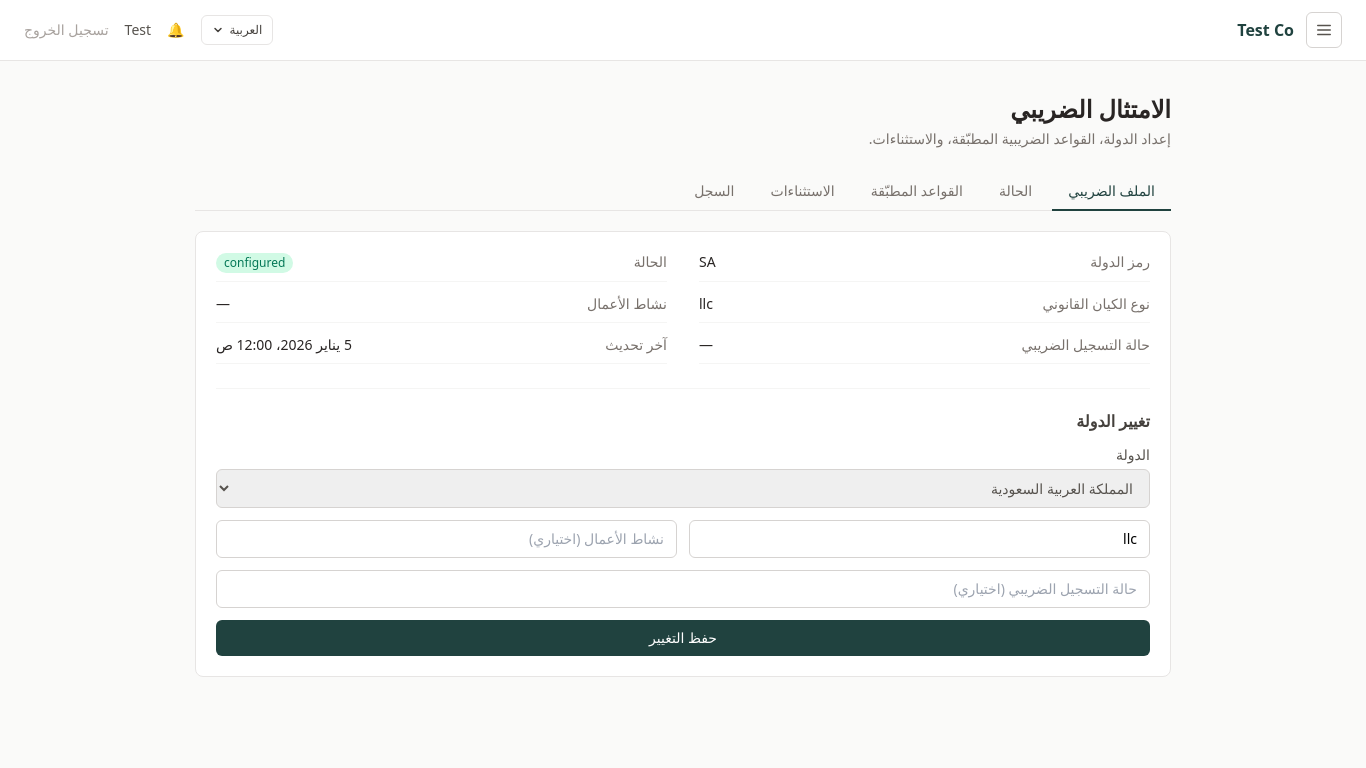
it: <Compliance/> — Rules › 8. renders the rules returned by the API, without computing anything locally
Check: the text "رمز الدولة" is shown, box [1090,252,1150,272]
Click the tab "القواعد المطبّقة".
click(917, 192)  # box [855,173,979,211]
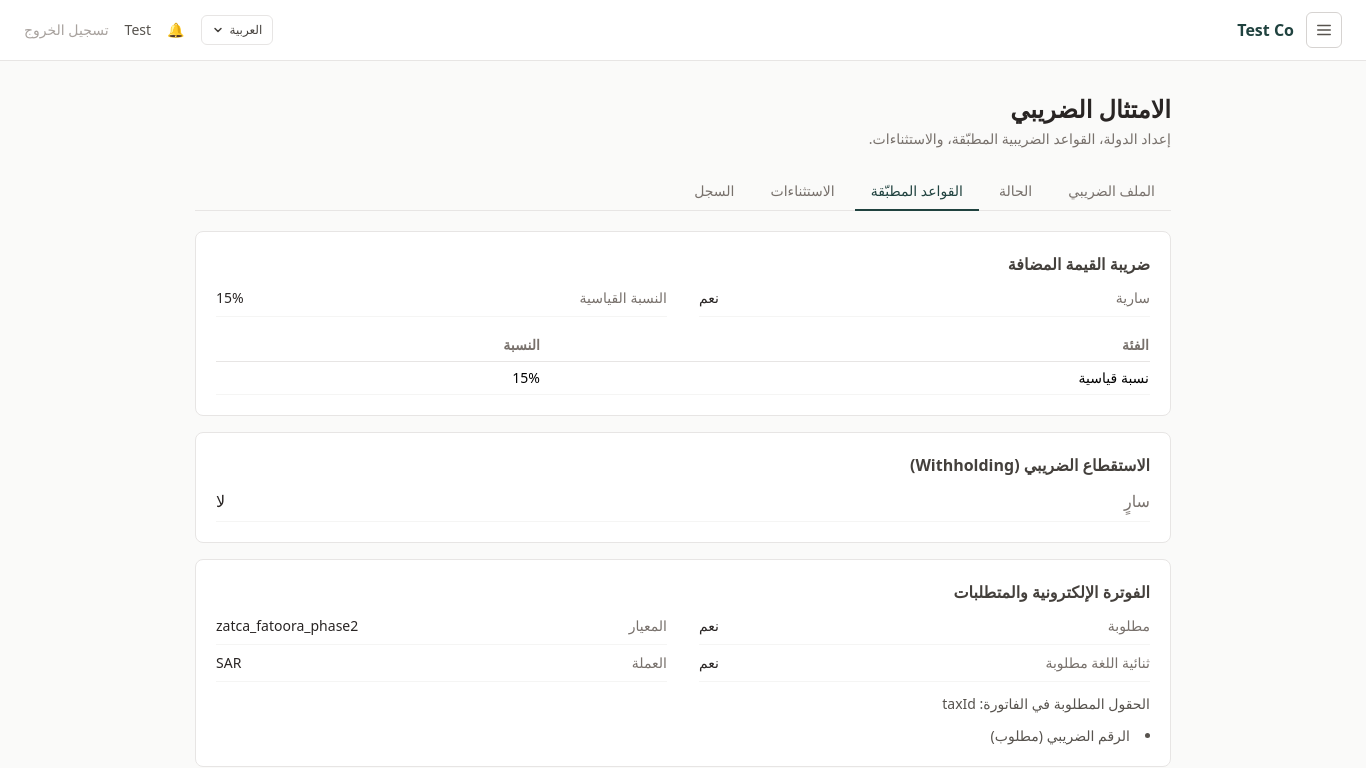
Check: the heading "ضريبة القيمة المضافة" is shown, box [1008,253,1150,275]
Check: the text "15%" is shown, box [216,288,244,308]
Check: the text "نسبة قياسية" is shown, box [541,362,1150,394]
